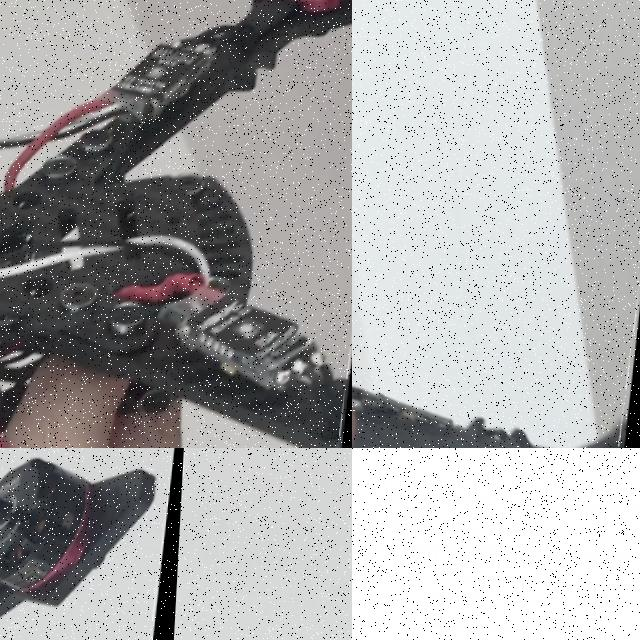drone: (0, 0, 352, 448), (352, 0, 640, 448), (0, 448, 191, 640)
